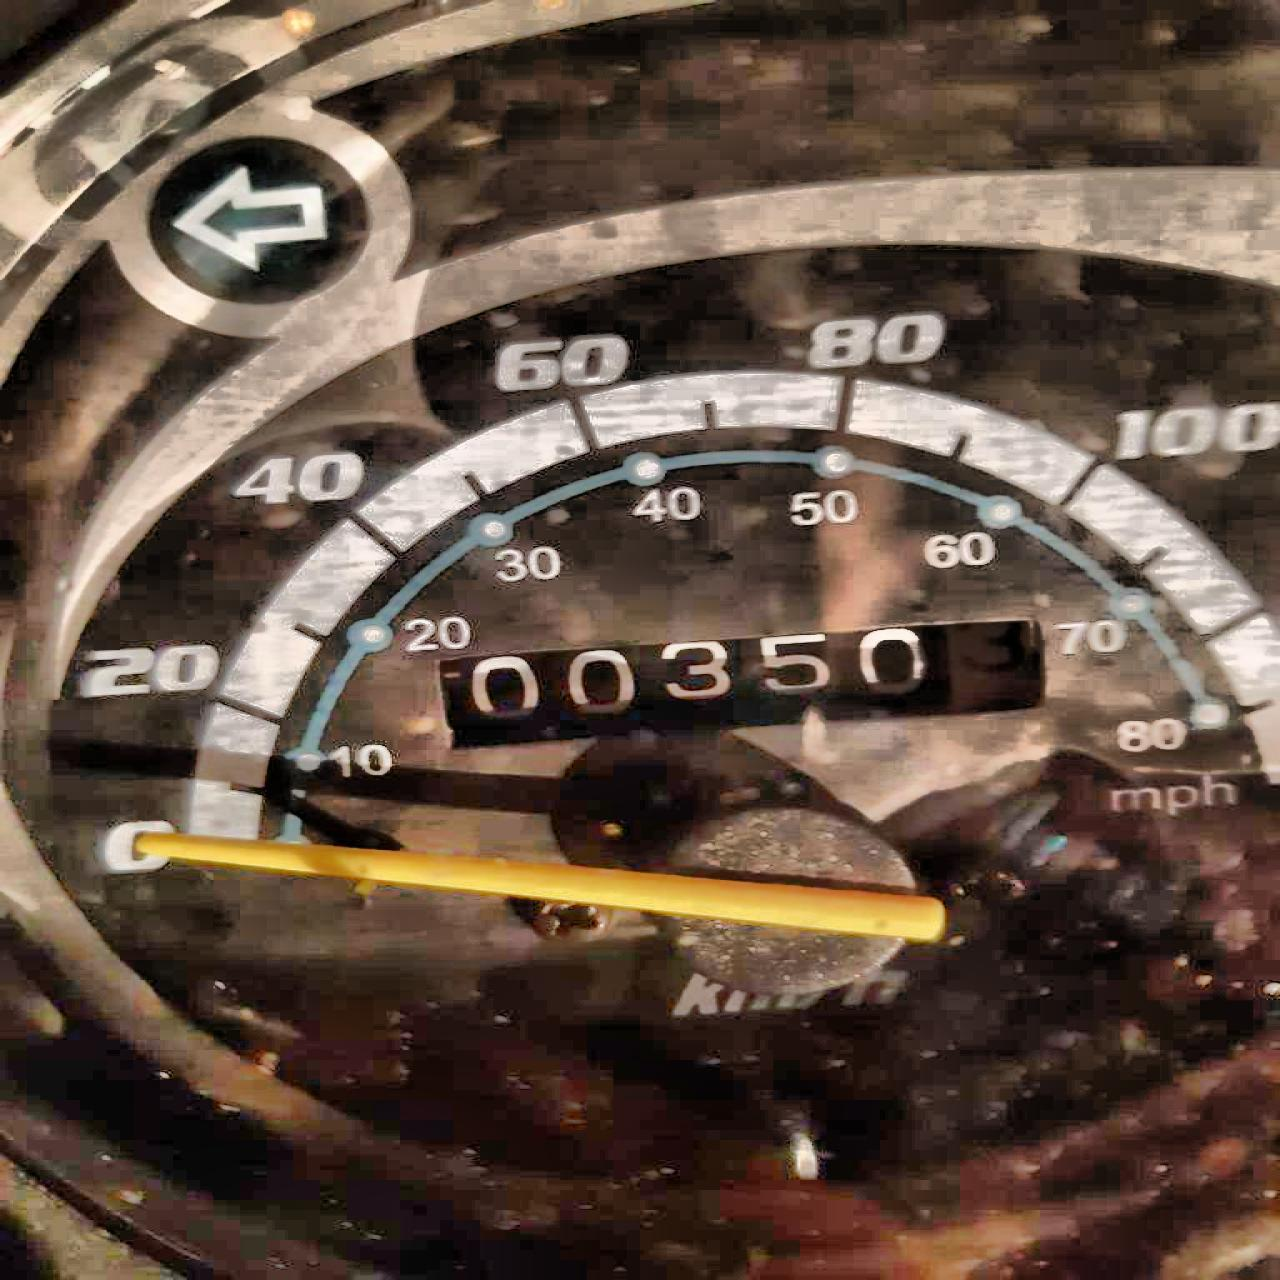0: (855, 620, 933, 696), (568, 639, 640, 714), (470, 655, 542, 714), (441, 612, 471, 649)
3: (656, 629, 734, 704), (955, 615, 1032, 682)
5: (754, 629, 839, 701)
odometer: (442, 611, 1063, 737)
